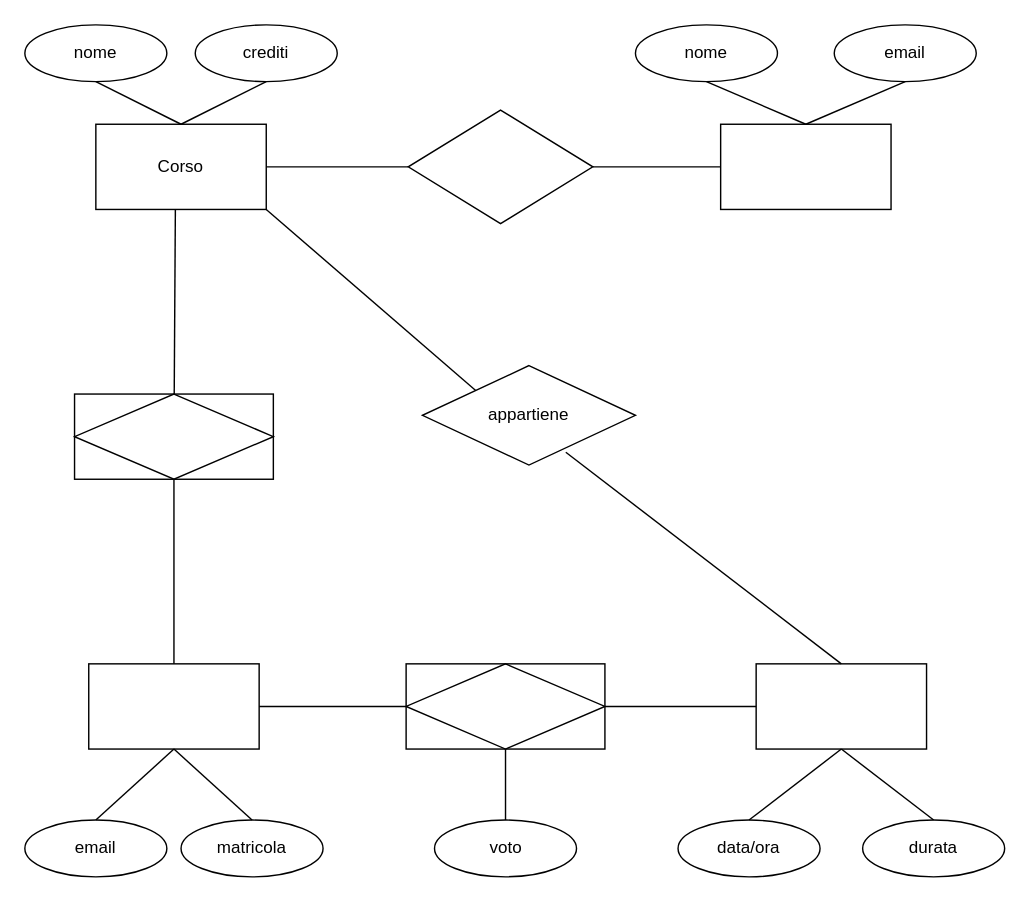
Image size: 1030x902. Some labels were removed from this diagram. Each missing label, with the centre of its shape:
"corso-studente" goes at [173,436].
"Esame" goes at [841,705].
"Insegnante" goes at [805,166].
"presenta" goes at [500,166].
"Risultato" goes at [505,705].
"Studente" goes at [173,705].
